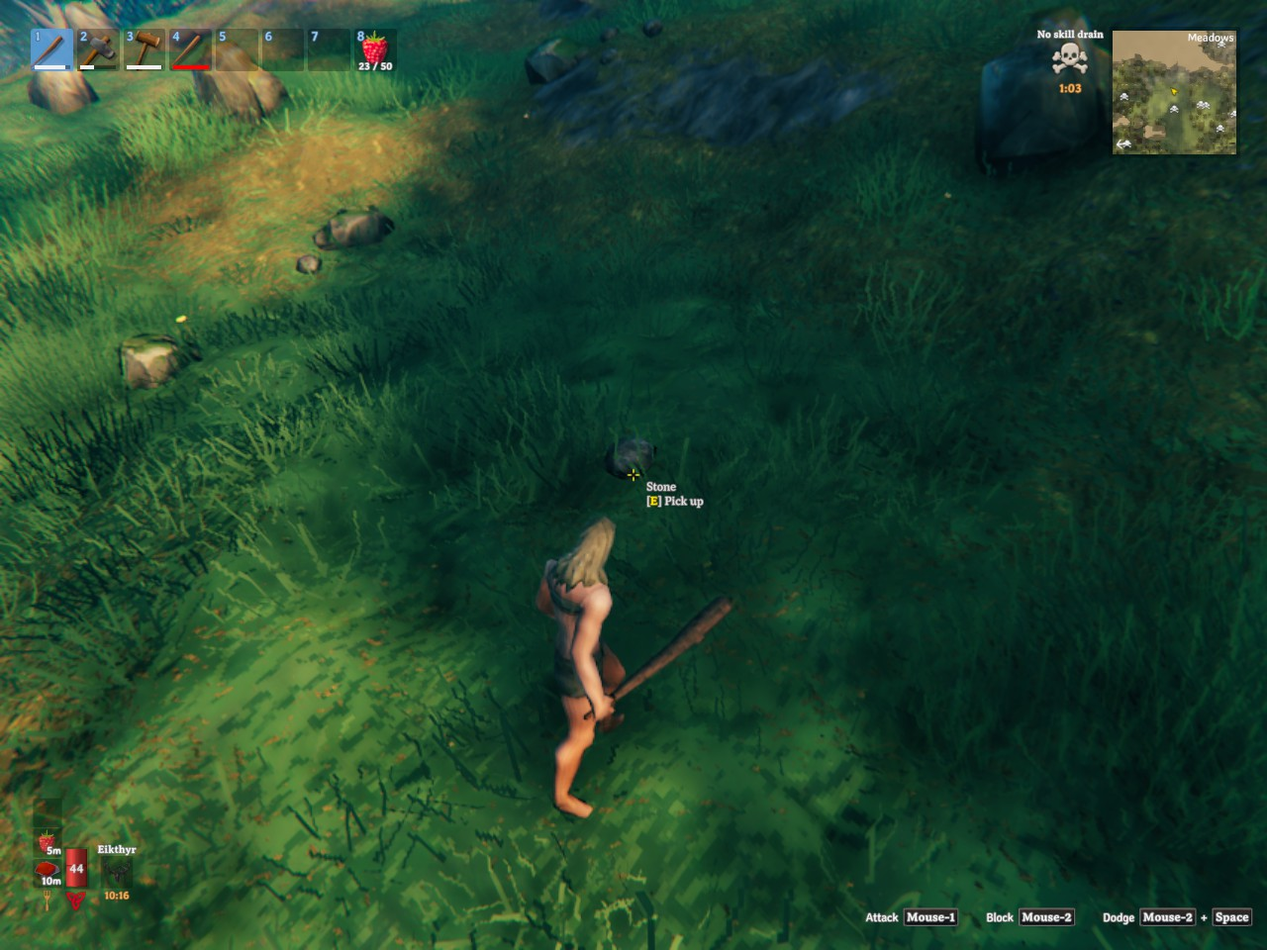Club: (612, 597, 730, 701)
Food Indicator: (36, 829, 63, 891)
Health Bar: (63, 845, 90, 891)
Hotbar: (25, 21, 398, 78)
Status Indicator: (1029, 25, 1110, 103)
Stone: (605, 436, 655, 479)
